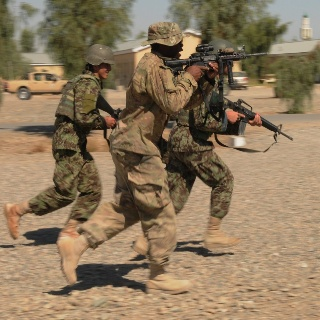rifle: (163, 42, 270, 85), (208, 89, 293, 141)
